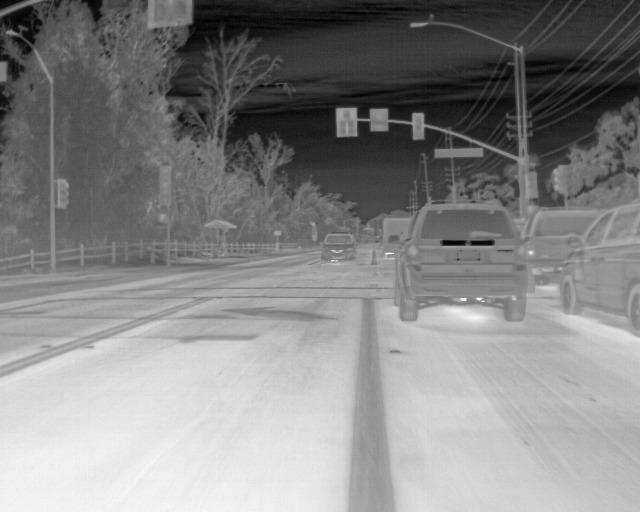car: (388, 199, 528, 322), (561, 199, 639, 337), (513, 209, 611, 294), (377, 217, 410, 260), (320, 231, 359, 263)
light: (161, 168, 169, 202), (528, 173, 537, 198), (60, 181, 69, 204), (553, 168, 561, 193), (415, 115, 422, 136), (348, 120, 355, 134), (339, 120, 346, 134), (158, 214, 166, 223), (343, 110, 350, 118)
sign: (370, 109, 388, 131), (435, 149, 483, 157), (0, 62, 6, 81), (311, 226, 317, 234)
